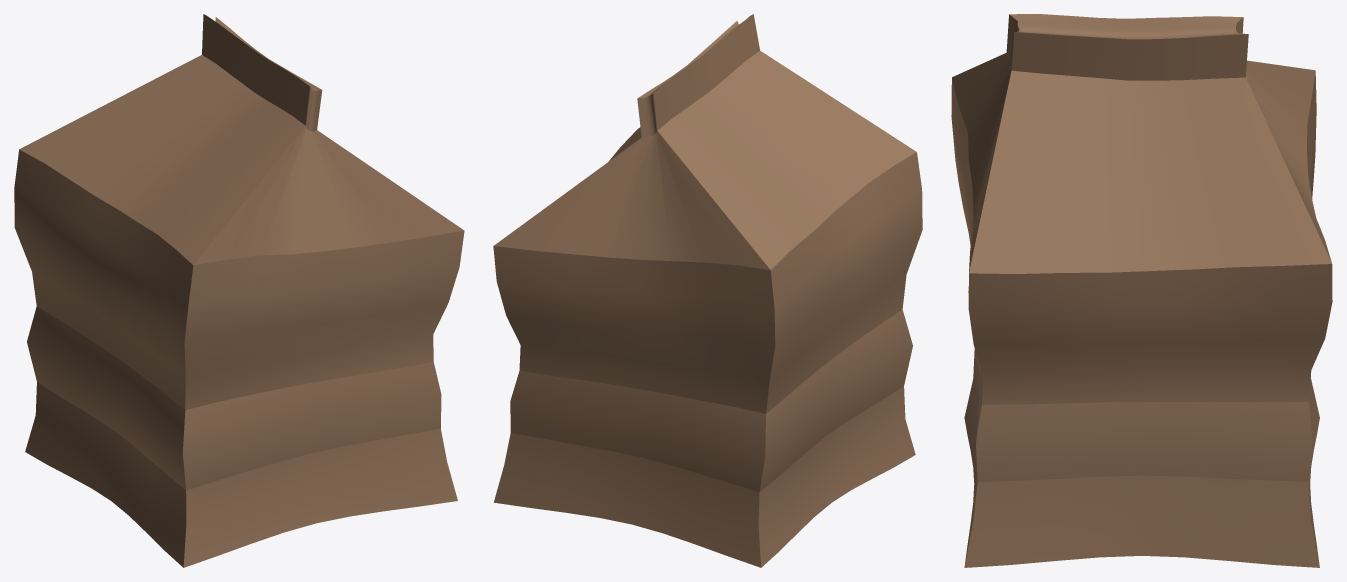
File: carton2.glb
3 views of the same model, side by side, from view 1: azimuth 30°, elevation 25°; view 2: azimuth 150°, elevation 25°; view 3: azimuth 270°, elevation 25° (orthographic). The views are drawn at different scales.
Parts seen in each view (by area): view 1: Cube.009; view 2: Cube.009; view 3: Cube.009.
Part boxes in pixels (bbox=[...]): Cube.009: bbox=[14, 14, 464, 567]; Cube.009: bbox=[493, 14, 922, 567]; Cube.009: bbox=[951, 14, 1332, 567].
Bounding box in the file's own units: 3.01 × 4.2 × 3.
